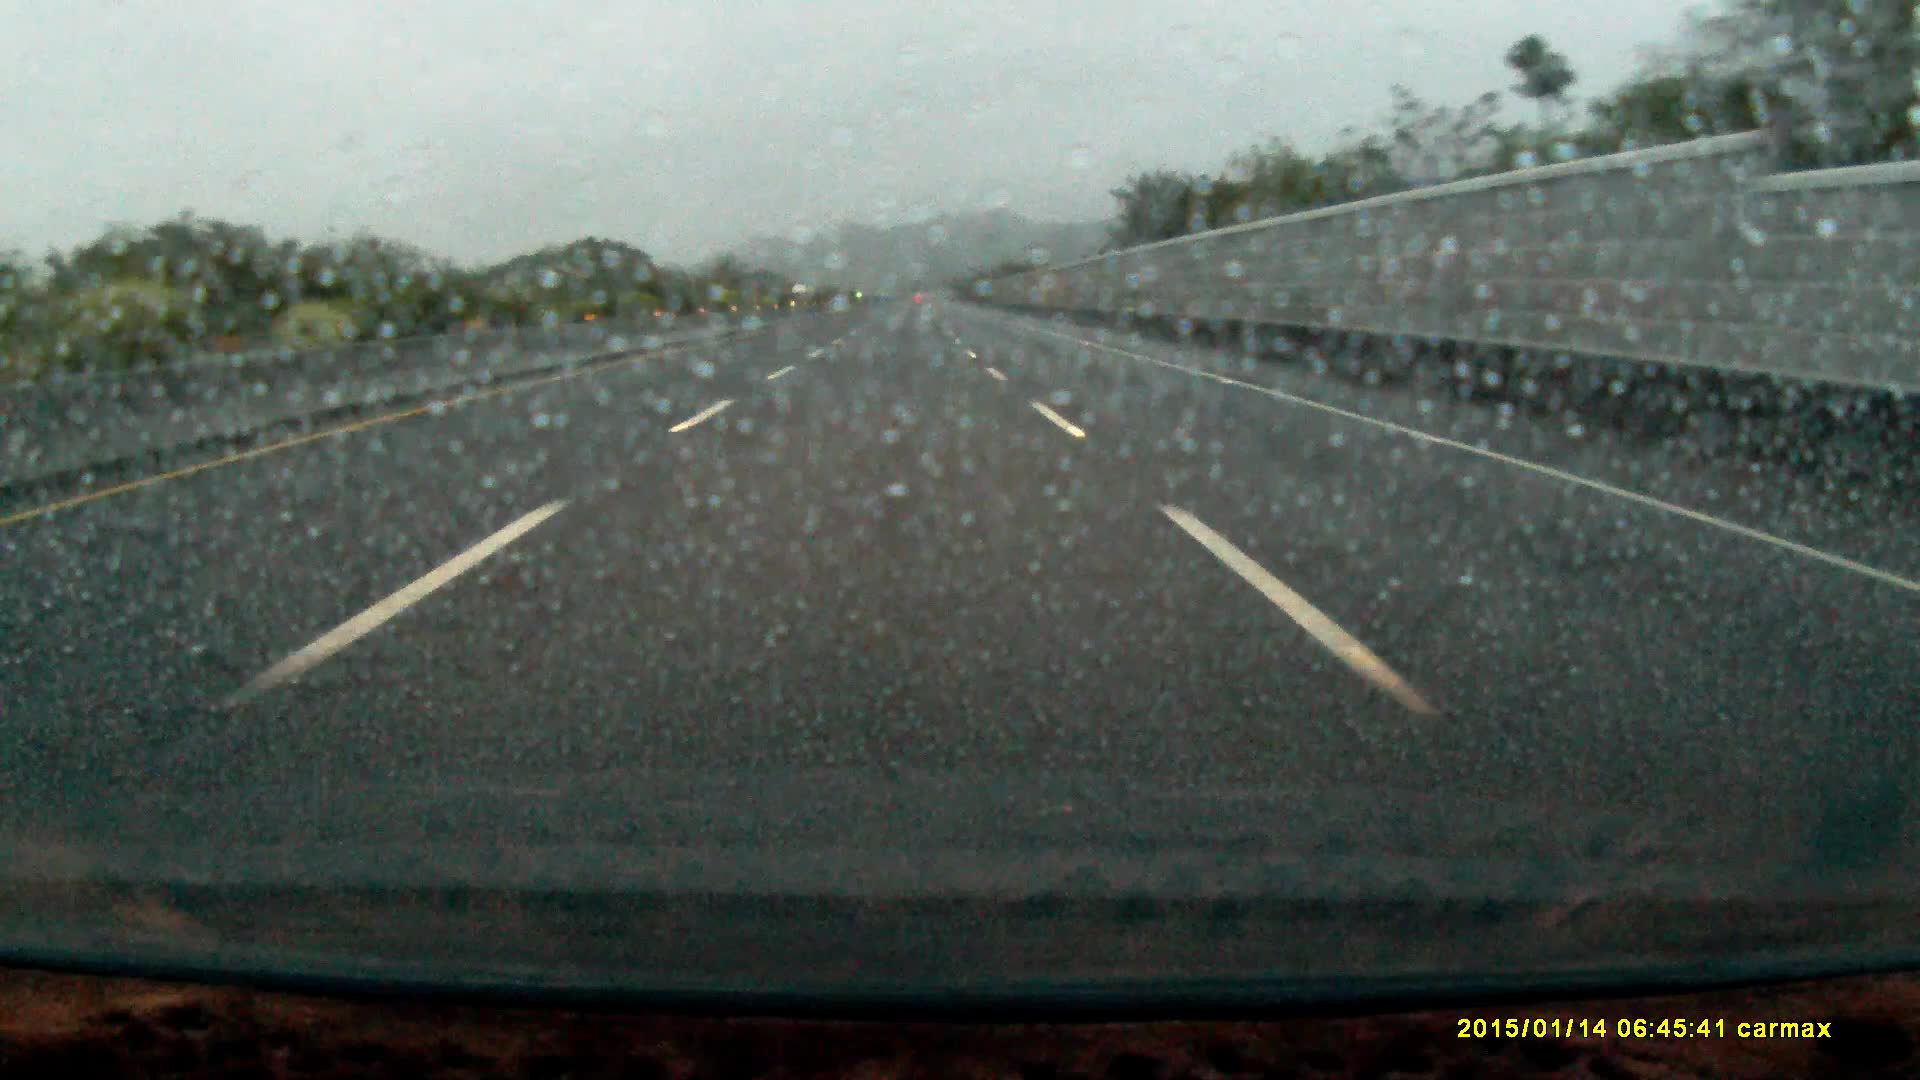vehicle: (790, 284, 815, 309)
